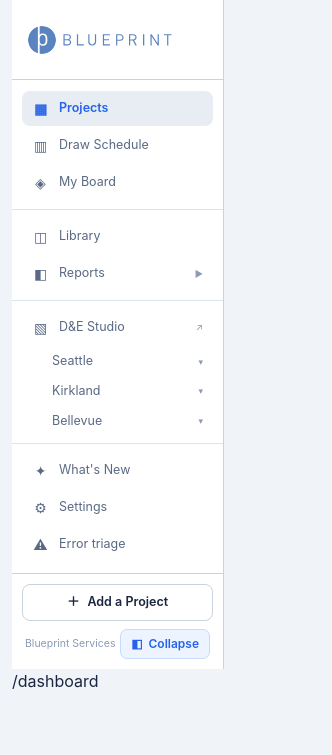
Test case: fix-317: the Reports group stops duplicating the shelf › ★ renders Overview and Saved reports, and none of the five shelved reports
Click the button with test id "ribbon-group-toggle-reports" at (118, 274), box [22,256,213,291]
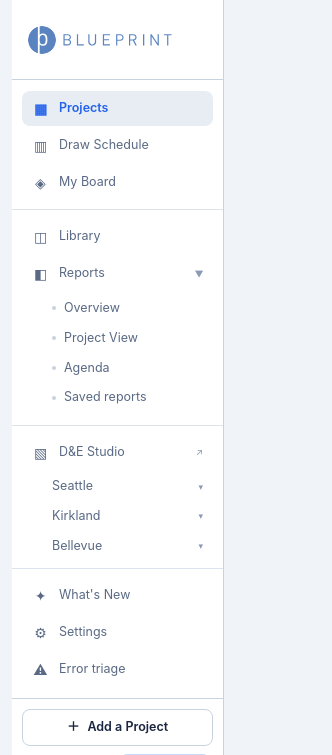
Result: the link with test id "ribbon-link-/reports" is shown at [52,300,120,315]
Result: the link with test id "ribbon-link-/reports/saved" is shown at [52,389,146,404]
